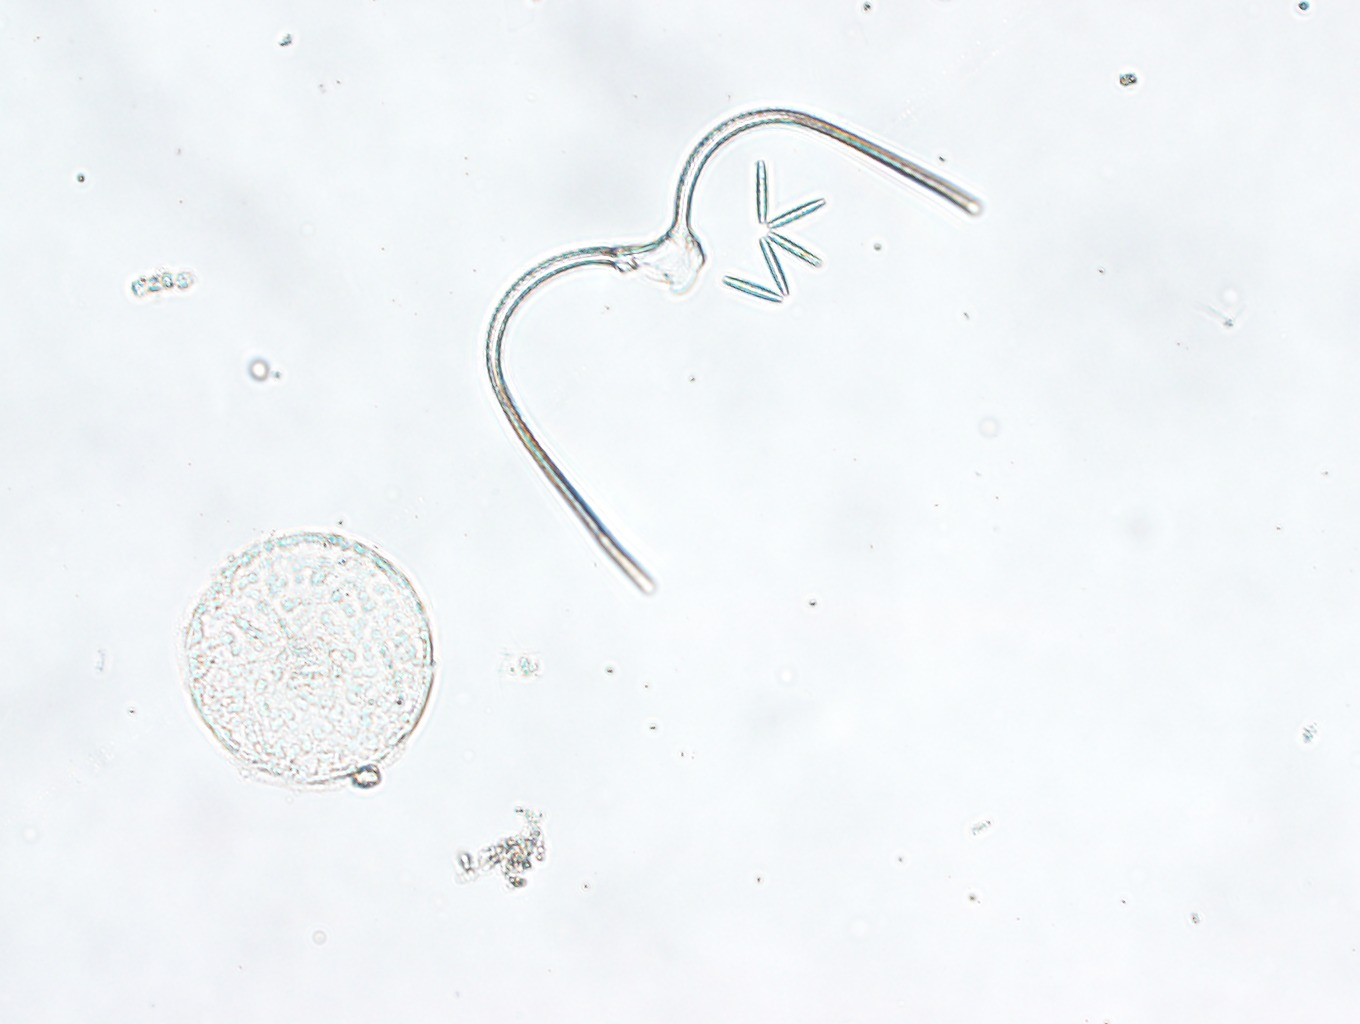ceratium trichoceros: (485, 106, 983, 598)
coscinodiscus: (184, 530, 436, 786)
thalassionema nitzschioides: (721, 160, 826, 305)
